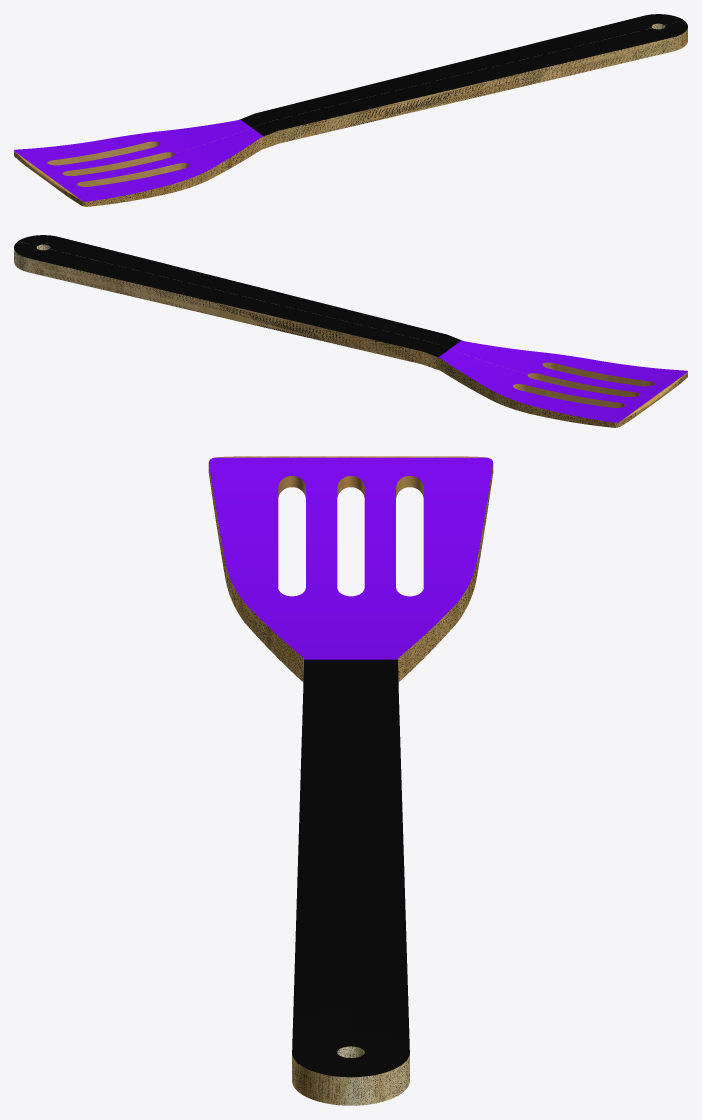
File: turner_07_origin_gt_6.dae
3 renders of one model, top to bottom at view 1: azimuth 30°, elevation 25°; view 2: azimuth 150°, elevation 25°; view 3: azimuth 270°, elevation 25°, orthographic. The views are drawn at different scales.
Parts seen in each view (by area): view 1: Wooden_Kitchen_Shovel (×9); view 2: Wooden_Kitchen_Shovel (×9); view 3: Wooden_Kitchen_Shovel (×6).
Boxes of the visible parts, box(x1,y1,x2,y2) form: Wooden_Kitchen_Shovel (×9): box(14, 14, 687, 206); Wooden_Kitchen_Shovel (×9): box(14, 235, 687, 427); Wooden_Kitchen_Shovel (×6): box(208, 457, 493, 1105).
Bounding box in the file's own units: 16.83 × 3.24 × 0.4591.
Materials: 4 (2 with a texture image).
